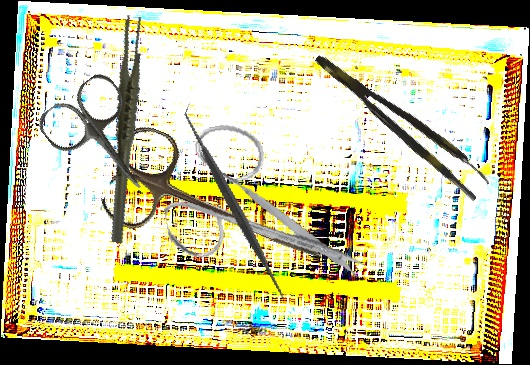Iris Scissors: (151, 104, 367, 310), (97, 120, 342, 300), (33, 68, 174, 215)
Spatula Surgical: (130, 101, 339, 310)
Tissue Forceps: (312, 39, 493, 203), (68, 13, 182, 245)
